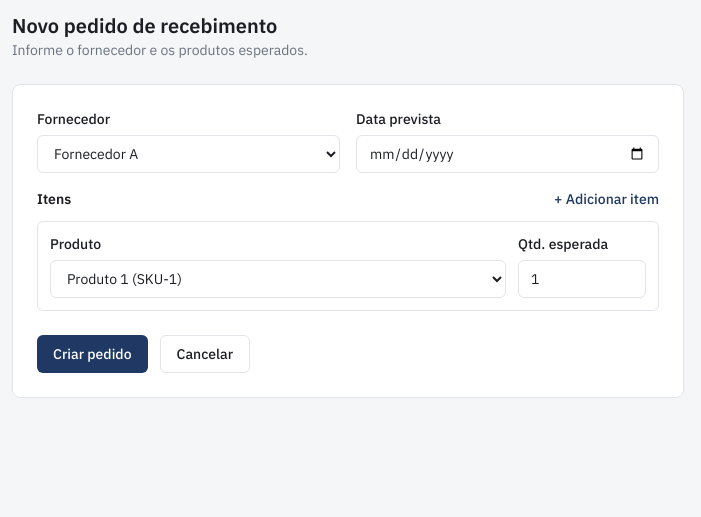
PedidoRecebimentoFormPage › começa com um item, e '+ Adicionar item' cria uma segunda linha
Expected: the number of dropdowns labelled "Produto" is 1, [50,260,506,298]
Click the button "+ Adicionar item" at (606, 199), box [554,189,659,209]
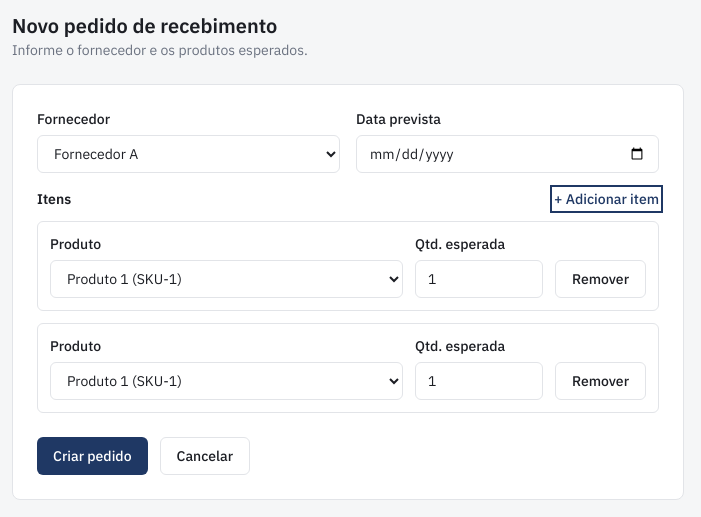
Expected: the number of dropdowns labelled "Produto" is 2, [50,260,403,298]; [50,362,403,400]
Expected: the number of buttons "Remover" is 2, [555,260,646,298]; [555,362,646,400]
